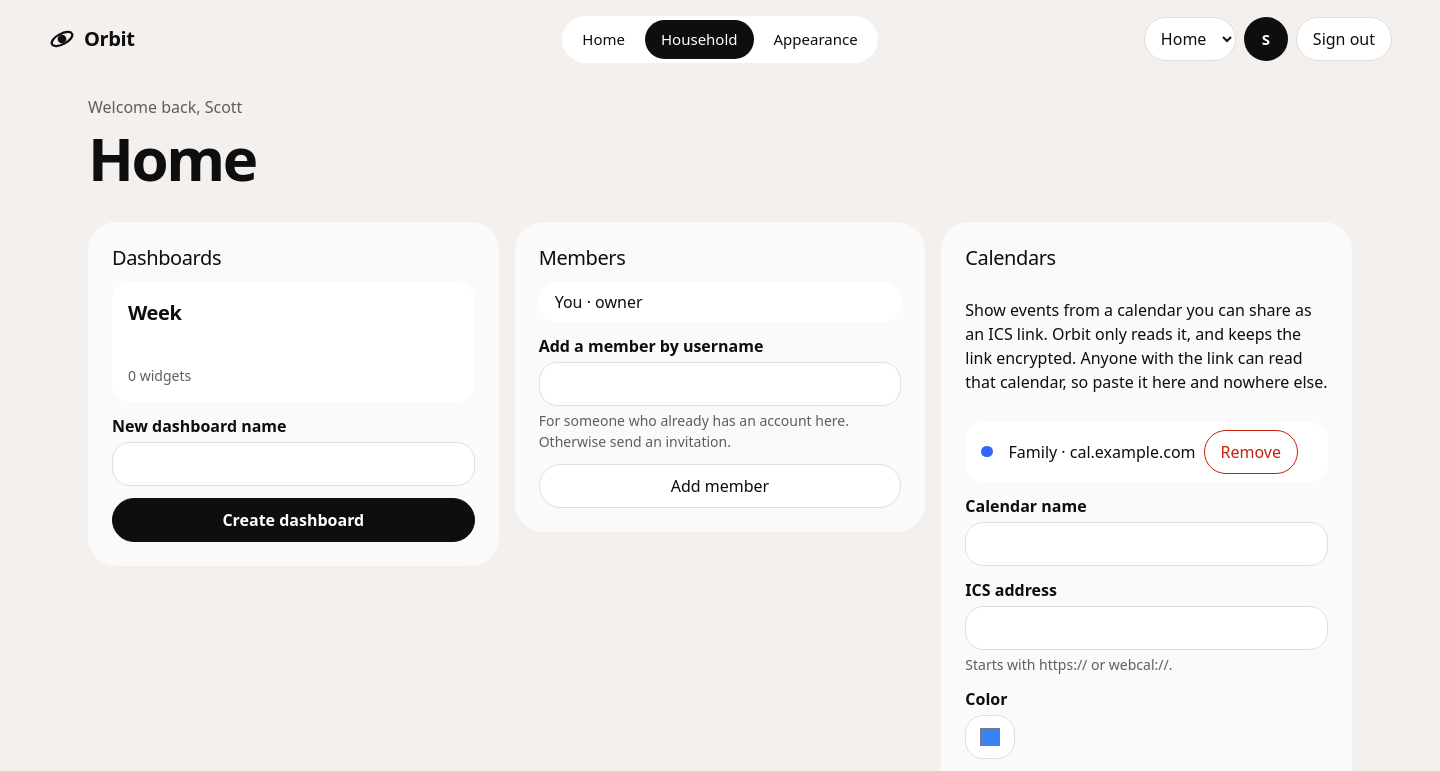
Test: calendar panel › removes a calendar
Click the button with aria-label "Remove calendar Family".
click(1251, 452)  # box x1=1204 y1=430 x2=1298 y2=474
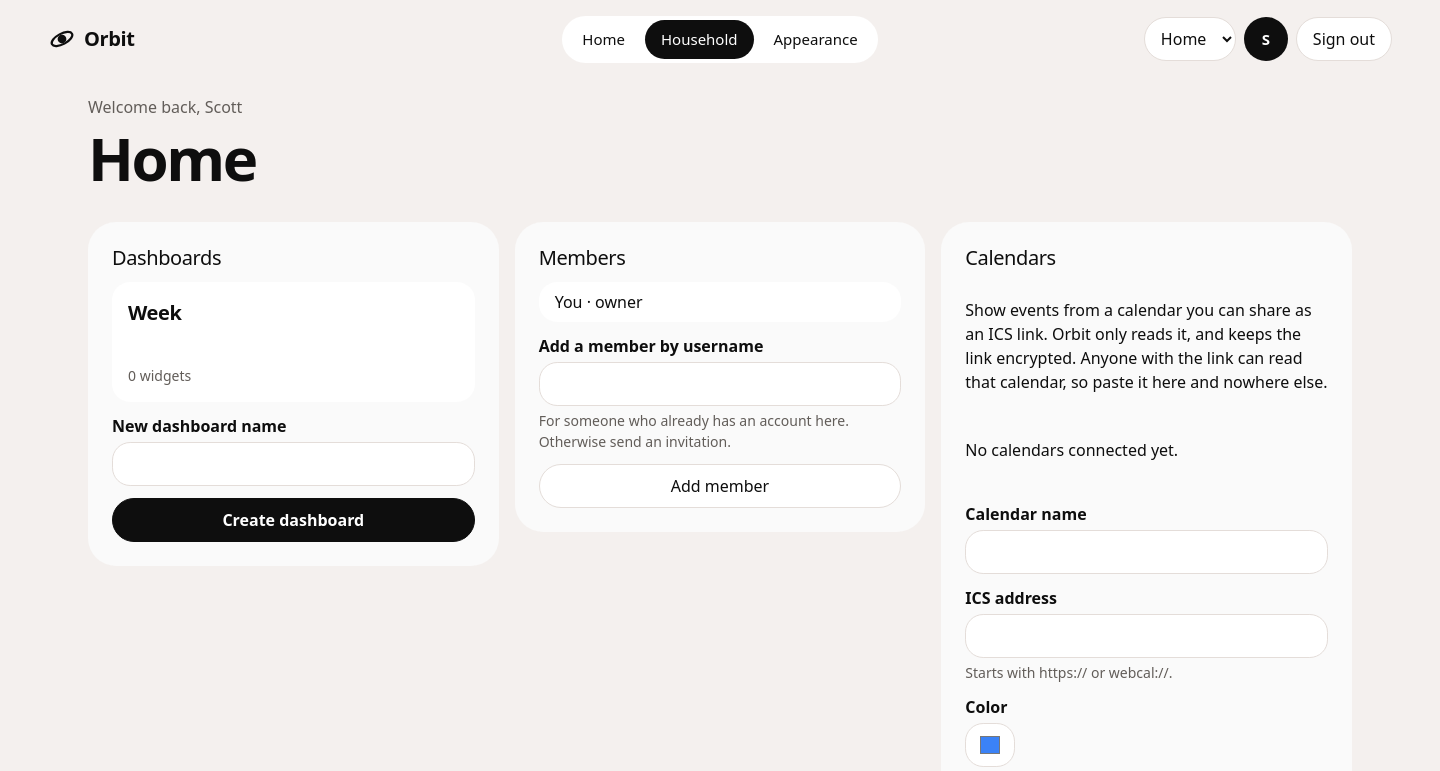
Expected: the text "No calendars connected yet." is shown, x1=965 y1=438 x2=1178 y2=460
